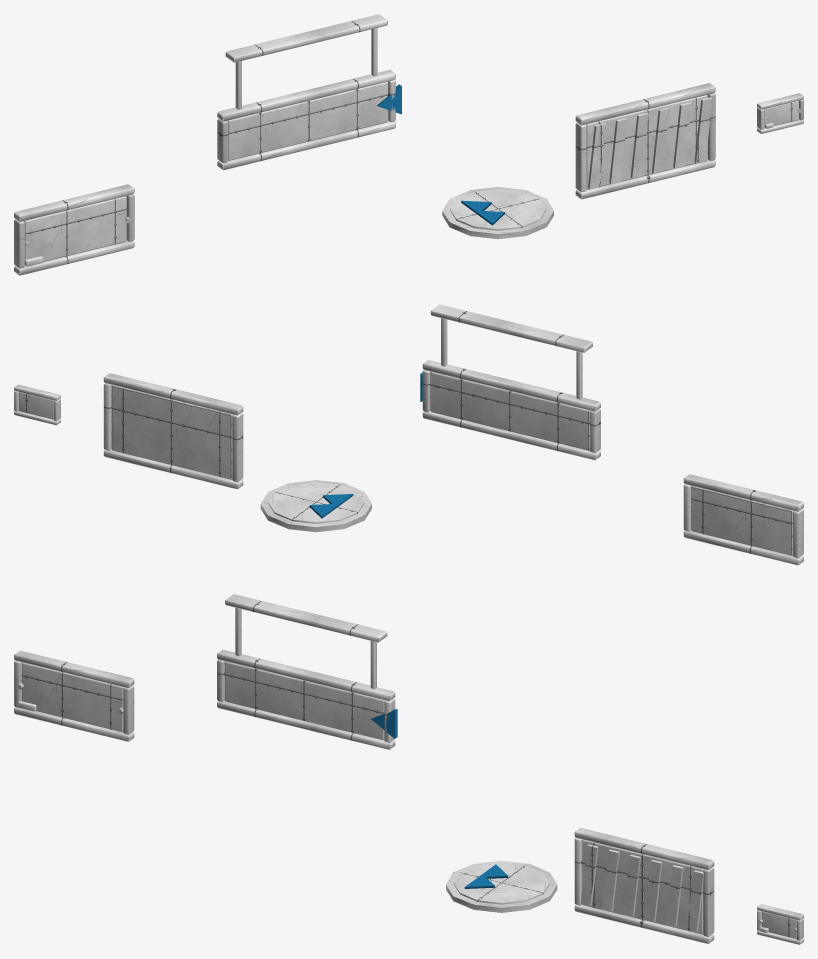
The picture shows the model from 3 angles, top to bottom: view 1: azimuth 30°, elevation 25°; view 2: azimuth 150°, elevation 25°; view 3: azimuth 330°, elevation 25°; orthographic projection.
Visible parts, largest first — view 1: DL017_SignageKit_hull_offwhite, DL017_SignageKit_graphite_navy, DL017_SignageKit_amber_accent, DL017_SignageKit_emissive_cyan, DL017_SignageKit_titanium; view 2: DL017_SignageKit_hull_offwhite, DL017_SignageKit_graphite_navy, DL017_SignageKit_titanium, DL017_SignageKit_emissive_cyan; view 3: DL017_SignageKit_hull_offwhite, DL017_SignageKit_graphite_navy, DL017_SignageKit_amber_accent, DL017_SignageKit_emissive_cyan, DL017_SignageKit_titanium.
Boxes of the visible parts, x1=… form: DL017_SignageKit_hull_offwhite: x1=24, y1=82, x2=798, y2=261; DL017_SignageKit_graphite_navy: x1=14, y1=14, x2=803, y2=275; DL017_SignageKit_amber_accent: x1=24, y1=97, x2=773, y2=266; DL017_SignageKit_emissive_cyan: x1=377, y1=84, x2=504, y2=225; DL017_SignageKit_titanium: x1=24, y1=28, x2=801, y2=247; DL017_SignageKit_hull_offwhite: x1=18, y1=372, x2=793, y2=555; DL017_SignageKit_graphite_navy: x1=14, y1=304, x2=803, y2=565; DL017_SignageKit_titanium: x1=441, y1=318, x2=582, y2=399; DL017_SignageKit_emissive_cyan: x1=309, y1=372, x2=422, y2=518; DL017_SignageKit_hull_offwhite: x1=21, y1=661, x2=796, y2=938; DL017_SignageKit_graphite_navy: x1=14, y1=594, x2=803, y2=944; DL017_SignageKit_amber_accent: x1=18, y1=701, x2=768, y2=932; DL017_SignageKit_emissive_cyan: x1=371, y1=709, x2=508, y2=888; DL017_SignageKit_titanium: x1=17, y1=608, x2=796, y2=932.
Bounding box in the file's own units: 8.12 × 2.26 × 1.
5 materials, 4 textured.
